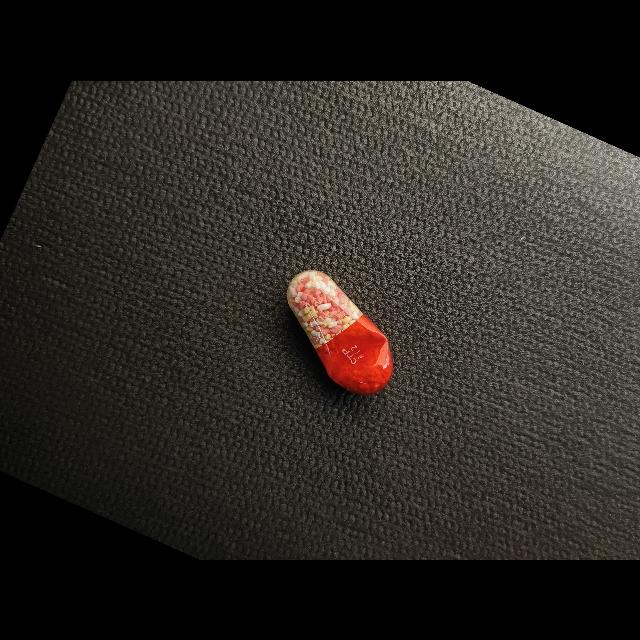Defective Capsule: (287, 269, 393, 394)
